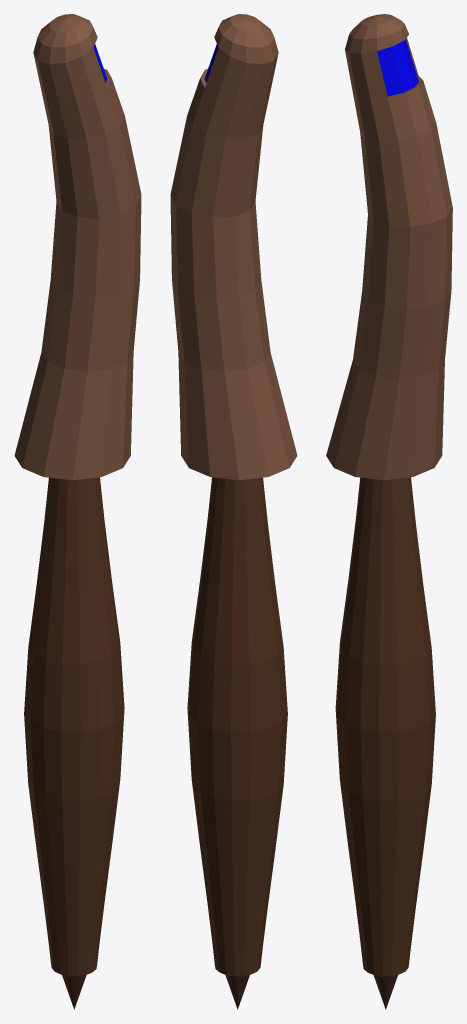
Rendered from Wand 142.glb.
3 renders of one model, left to right at view 1: azimuth 30°, elevation 25°; view 2: azimuth 150°, elevation 25°; view 3: azimuth 330°, elevation 25°, orthographic.
Parts seen in each view (by area): view 1: GeneratedWand; view 2: GeneratedWand; view 3: GeneratedWand.
Boxes of the visible parts, x1=… form: GeneratedWand: x1=14, y1=14, x2=141, y2=1009; GeneratedWand: x1=170, y1=14, x2=297, y2=1009; GeneratedWand: x1=326, y1=14, x2=452, y2=1009.
Bounding box in the file's own units: 0.0644 × 0.538 × 0.0572.
